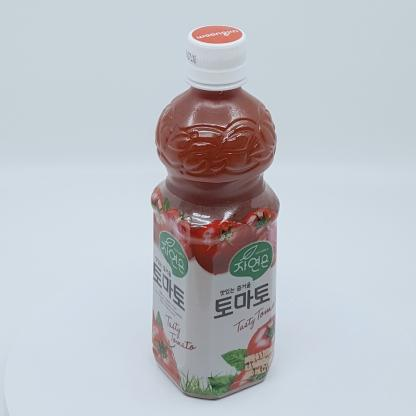--------500ML: (149, 25, 281, 401)
